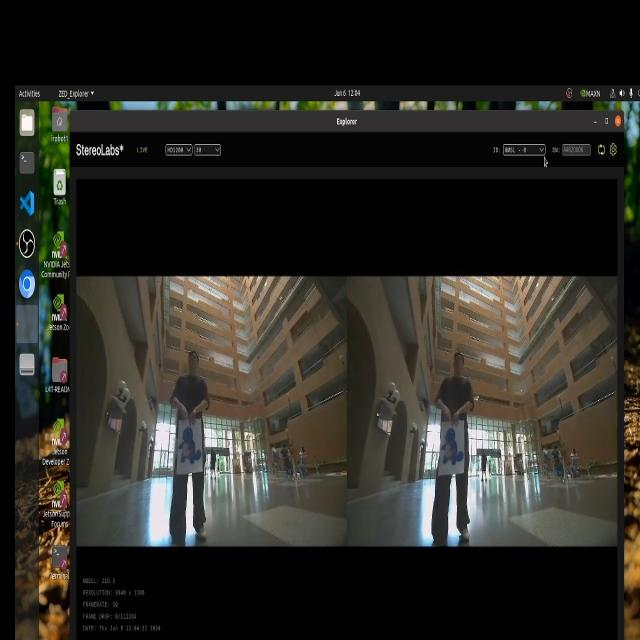blue: (446, 428, 465, 471), (179, 426, 197, 460)
